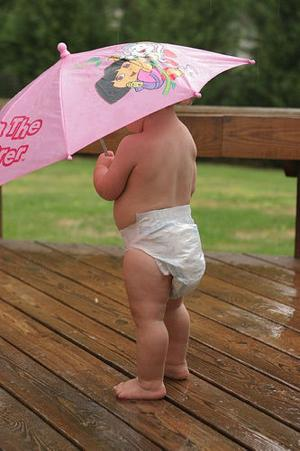person: (94, 103, 206, 397)
